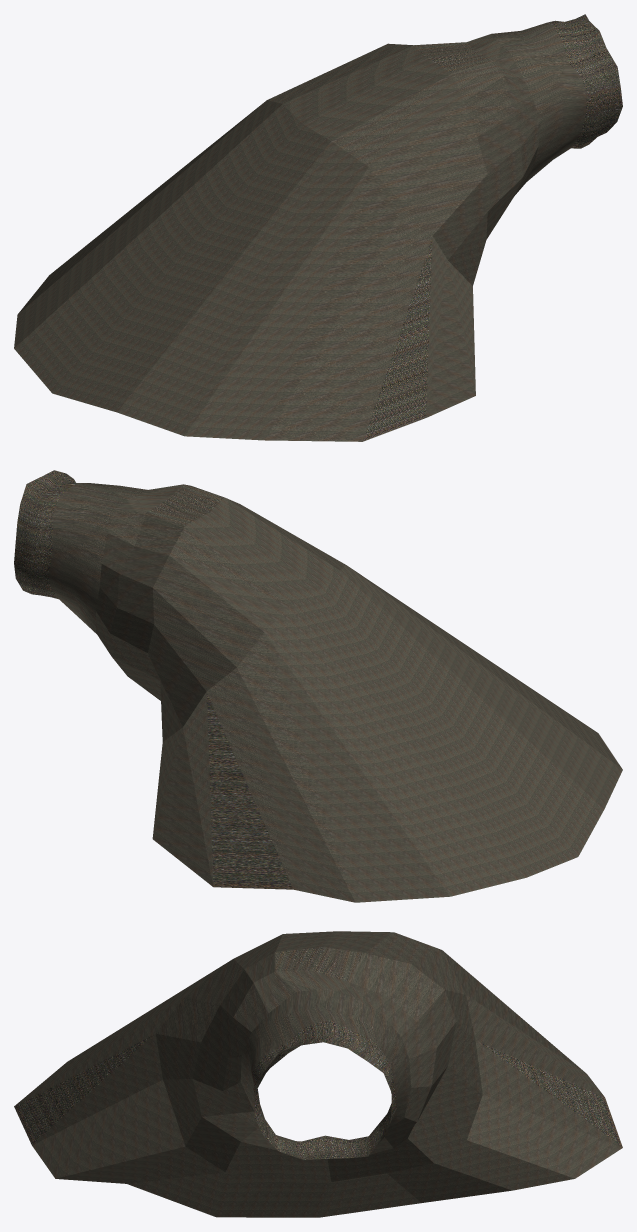
The model's file is Goal.fbx.
3 renders of one model, top to bottom at view 1: azimuth 30°, elevation 25°; view 2: azimuth 150°, elevation 25°; view 3: azimuth 270°, elevation 25°, orthographic. The views are drawn at different scales.
Parts seen in each view (by area): view 1: Cylinder001; view 2: Cylinder001; view 3: Cylinder001.
Part boxes in pixels (left/top/right/bottom): Cylinder001: left=14, top=14, right=622, bottom=441; Cylinder001: left=14, top=470, right=622, bottom=902; Cylinder001: left=14, top=931, right=622, bottom=1217.
Size of the model in its own units: 668 by 572 by 295.
